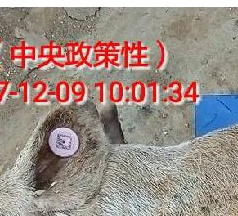text: (38, 117, 90, 164)
